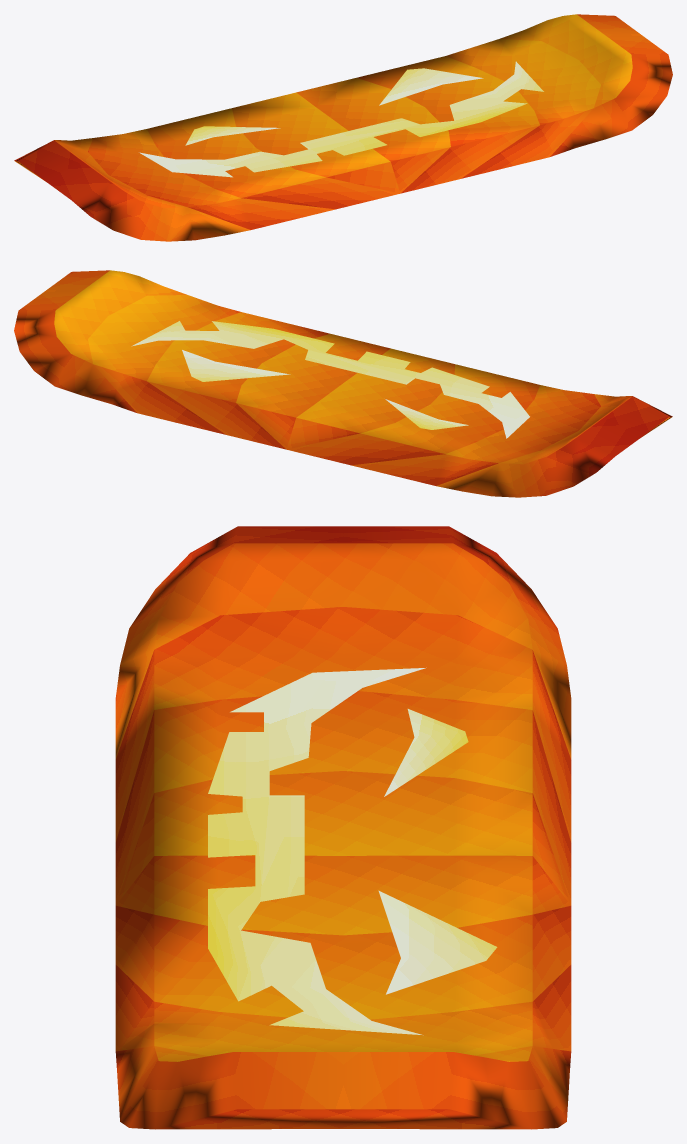
The model's file is Pumpkin.glb.
3 views of the same model, one above another, from view 1: azimuth 30°, elevation 25°; view 2: azimuth 150°, elevation 25°; view 3: azimuth 270°, elevation 25° (orthographic). The views are drawn at different scales.
Parts seen in each view (by area): view 1: Pumpkin; view 2: Pumpkin; view 3: Pumpkin.
Boxes of the visible parts, x1,y1,x2,y2 form: Pumpkin: (14, 14, 672, 241); Pumpkin: (14, 270, 672, 497); Pumpkin: (115, 526, 571, 1129).
Bounding box in the file's own units: 8.35 × 0.7837 × 2.76.
1 material, 1 textured.
